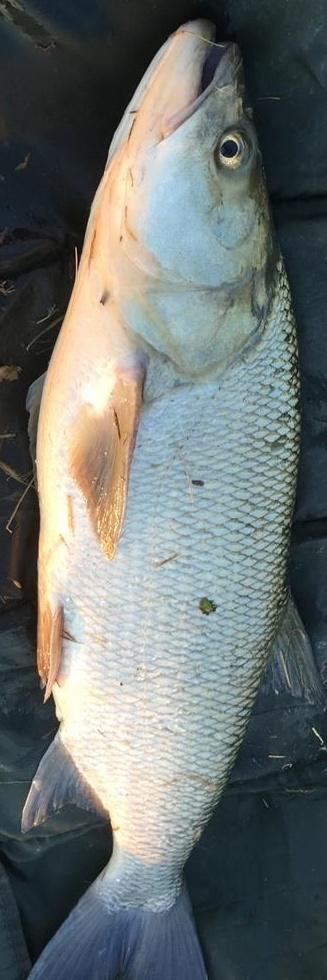Aspius aspius: (20, 20, 307, 979)
